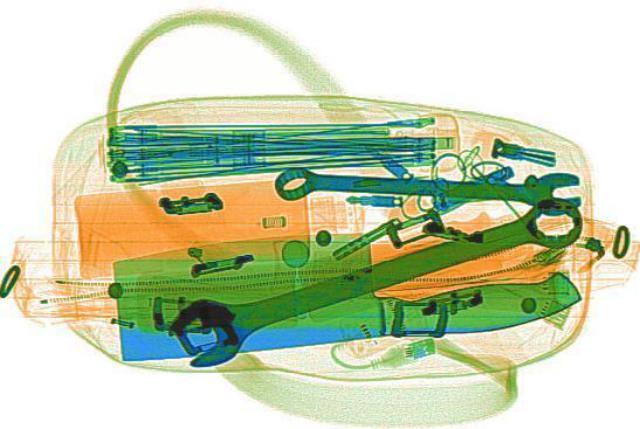Gun: (93, 208, 585, 367)
Wrench: (144, 186, 606, 371), (272, 160, 582, 213)
